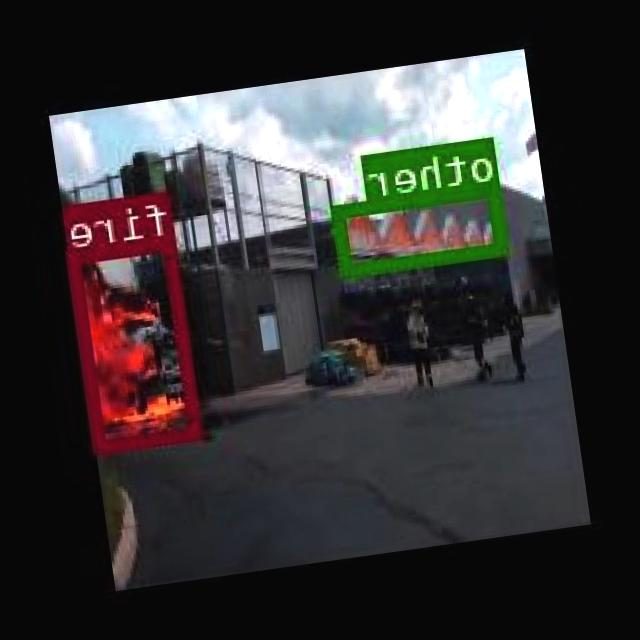fire: (70, 234, 204, 452)
